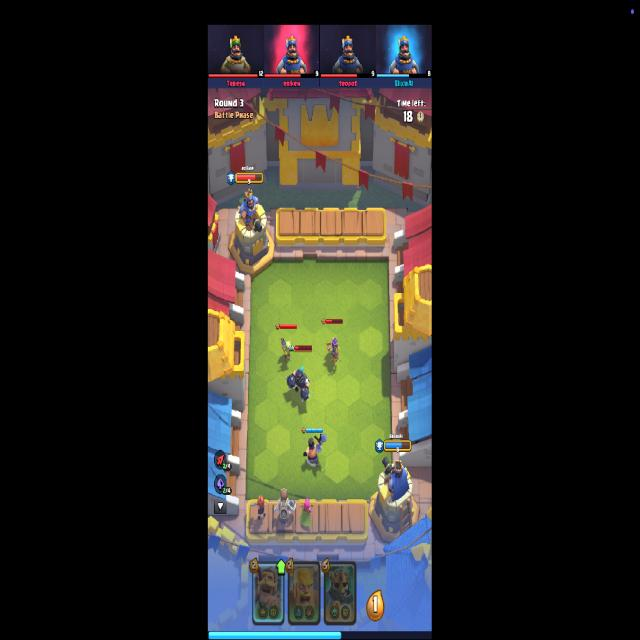archer: (298, 498, 314, 528)
archer_queen: (327, 337, 342, 368)
card_barbarian: (287, 558, 321, 626)
card_knight: (252, 562, 284, 625)
card_skeleton_king: (322, 560, 357, 626)
executioner: (303, 433, 327, 468)
giant_skeleton: (274, 488, 297, 526)
mega_knight: (285, 367, 312, 400)
spear_goblin: (280, 336, 294, 364)
